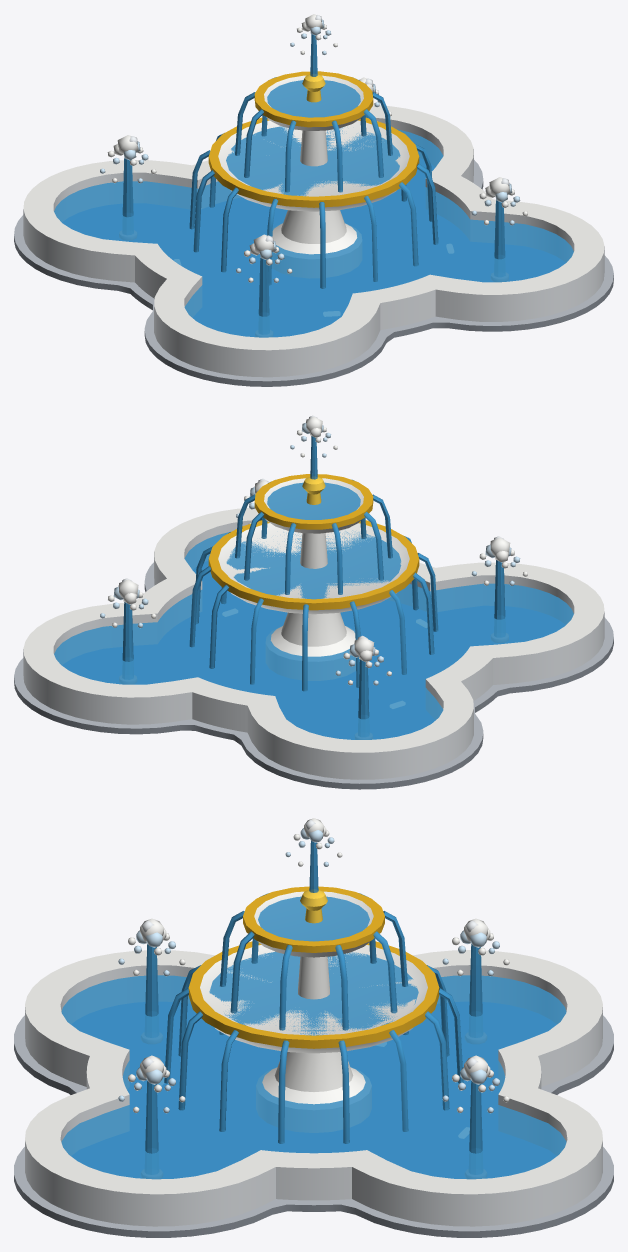
File: chafariz_lobulos.glb
3 renders of one model, top to bottom at view 1: azimuth 30°, elevation 25°; view 2: azimuth 150°, elevation 25°; view 3: azimuth 270°, elevation 25°, orthographic. The views are drawn at different scales.
Visible parts, largest first — view 1: chafariz_lobulos, jato_4, jato_2, jato_3; view 2: chafariz_lobulos, jato_2, jato_1, jato_3; view 3: chafariz_lobulos, jato_2, jato_4, jato_1, jato_3.
Part boxes in pixels (x1,y1,x2,y2): chafariz_lobulos: [14, 14, 613, 386]; jato_4: [471, 177, 527, 259]; jato_2: [100, 135, 156, 217]; jato_3: [236, 234, 292, 316]; chafariz_lobulos: [14, 415, 613, 789]; jato_2: [335, 635, 391, 719]; jato_1: [100, 578, 156, 661]; jato_3: [471, 536, 527, 619]; chafariz_lobulos: [14, 818, 613, 1237]; jato_2: [442, 918, 509, 1016]; jato_4: [118, 1055, 185, 1153]; jato_1: [442, 1055, 509, 1153]; jato_3: [118, 918, 185, 1016].
Bounding box in the file's own units: 6.42 × 3.46 × 6.42.
Materials: 3 (1 with a texture image).
